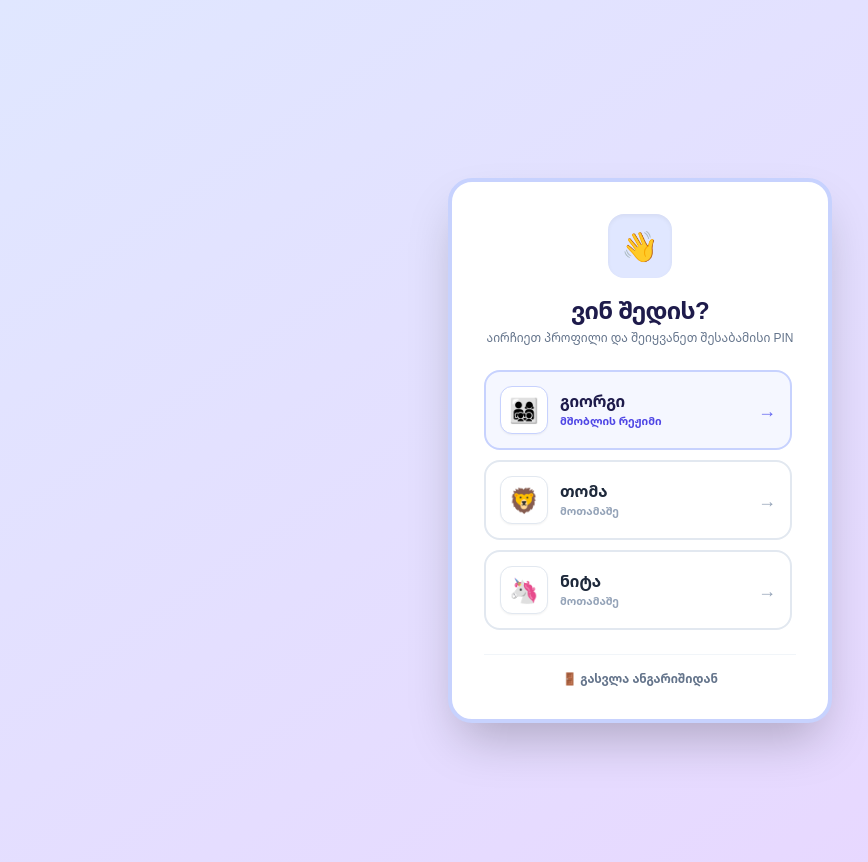
Test: PinGate Component — Two-Stage Identity-First Flow › Stage 1 -> Stage 2 -> Back ("← უკან"): transitions to Stage 2 with identity header and returns to Stage 1 clearing PIN
The image size is (868, 862).
Click child "თომა"
What coordinates should you click on to do the following:
click the text "თომა"
I would click on:
 (584, 491)
Its box is x1=560 y1=480 x2=608 y2=502.
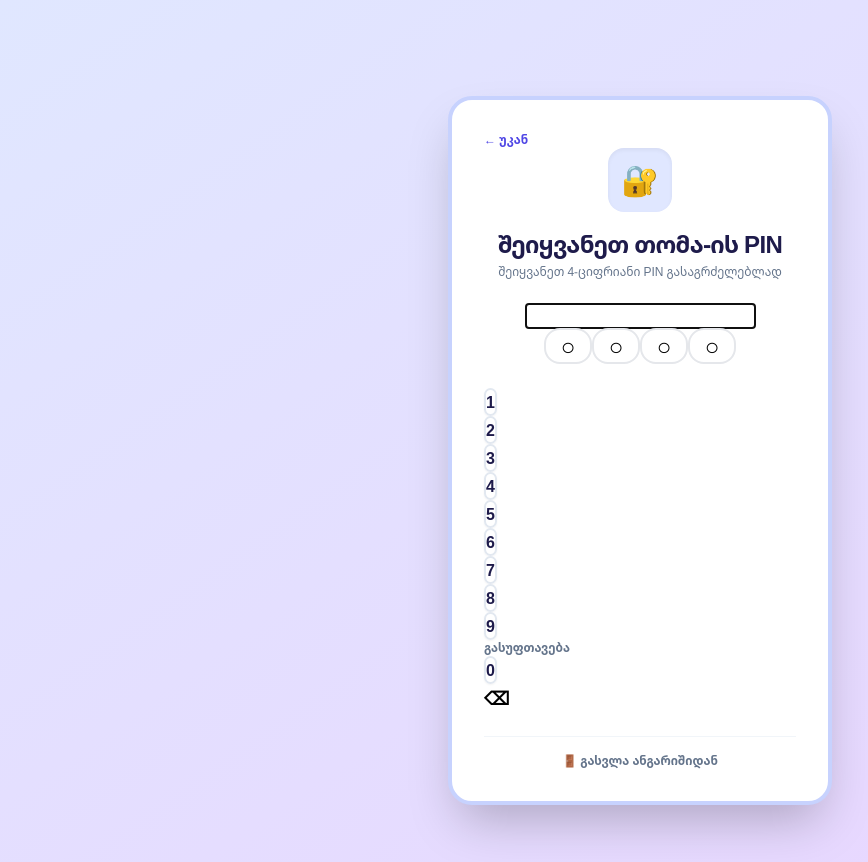
Expected: the heading "შეიყვანეთ თომა-ის PIN" is shown, x1=498 y1=228 x2=782 y2=260
Expected: the button "← უკან" is shown, x1=484 y1=132 x2=528 y2=148
What coordinates should you click on to do the following:
click the button "5"
I would click on:
 (490, 514)
Its box is x1=484 y1=500 x2=497 y2=528.
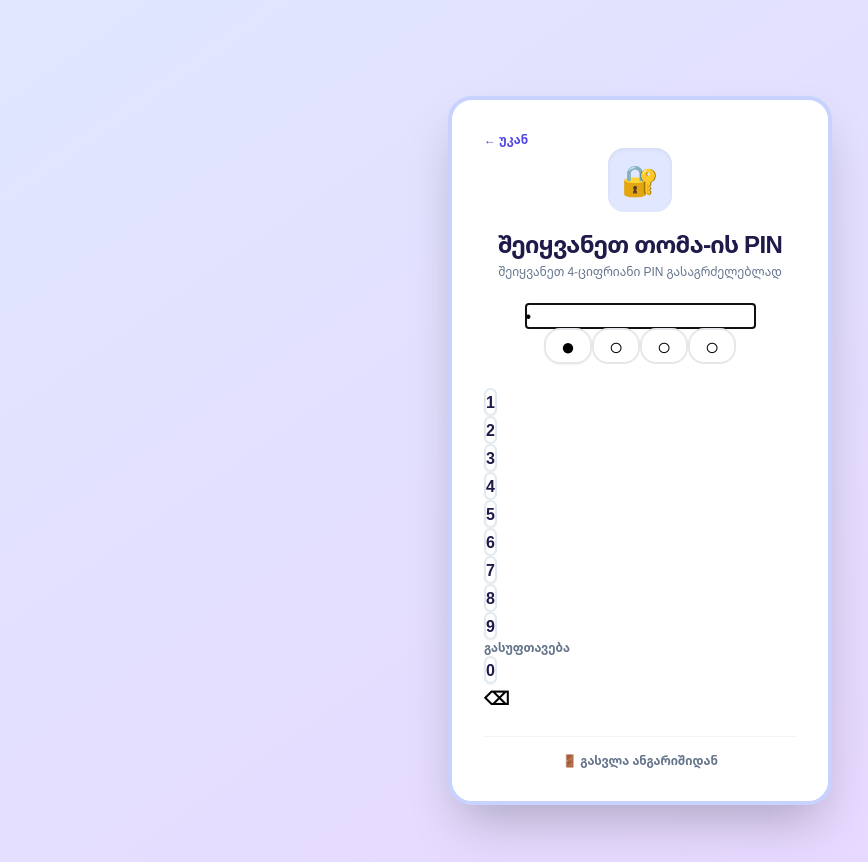
What coordinates should you click on to do the following:
click the button "6"
I would click on:
 (490, 542)
Its box is x1=484 y1=528 x2=497 y2=556.
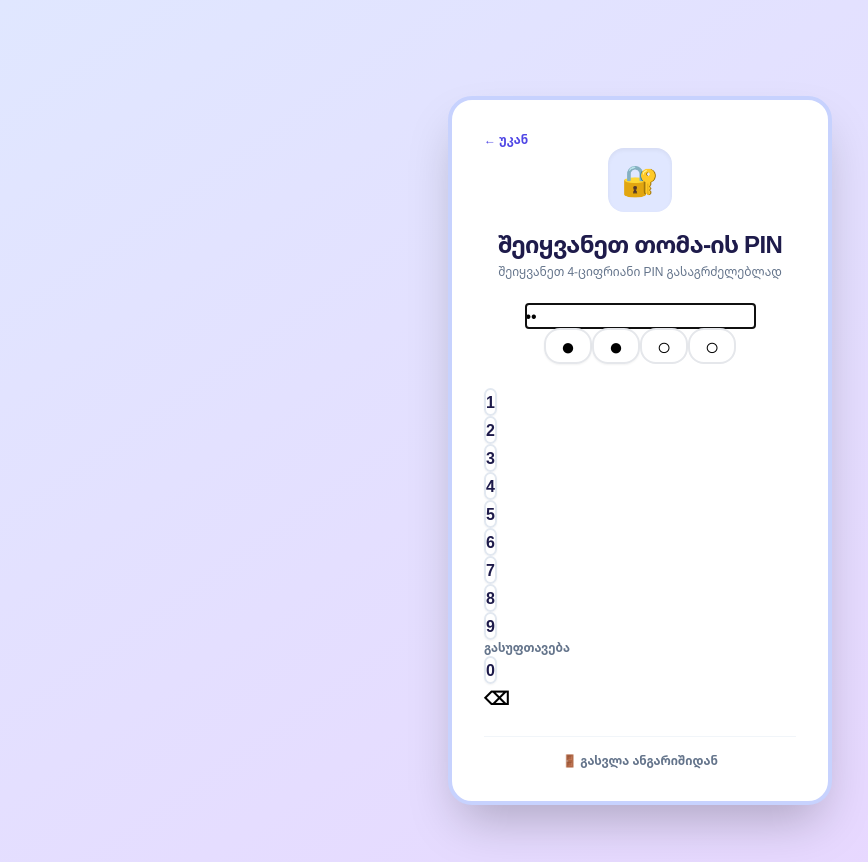
Click "← უკან"
What coordinates should you click on to do the following:
click the button "← უკან"
I would click on:
 (506, 140)
Its box is x1=484 y1=132 x2=528 y2=148.
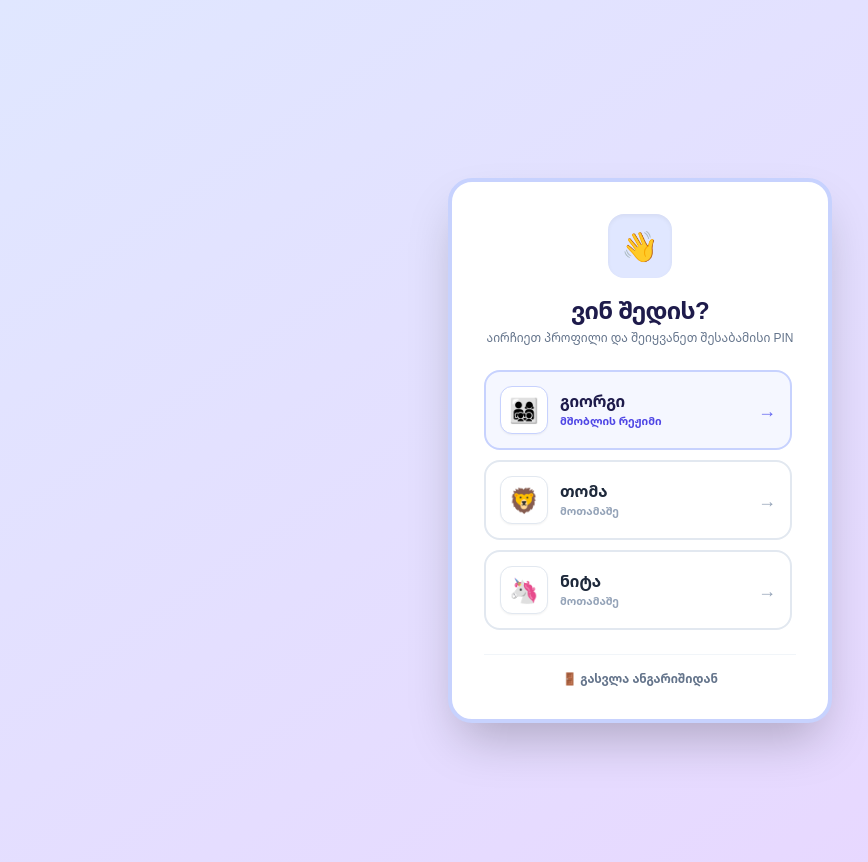
Expected: the heading "ვინ შედის?" is shown, x1=571 y1=294 x2=709 y2=326
What coordinates should you click on to do the following:
click the text "თომა"
I would click on:
 (584, 491)
Its box is x1=560 y1=480 x2=608 y2=502.
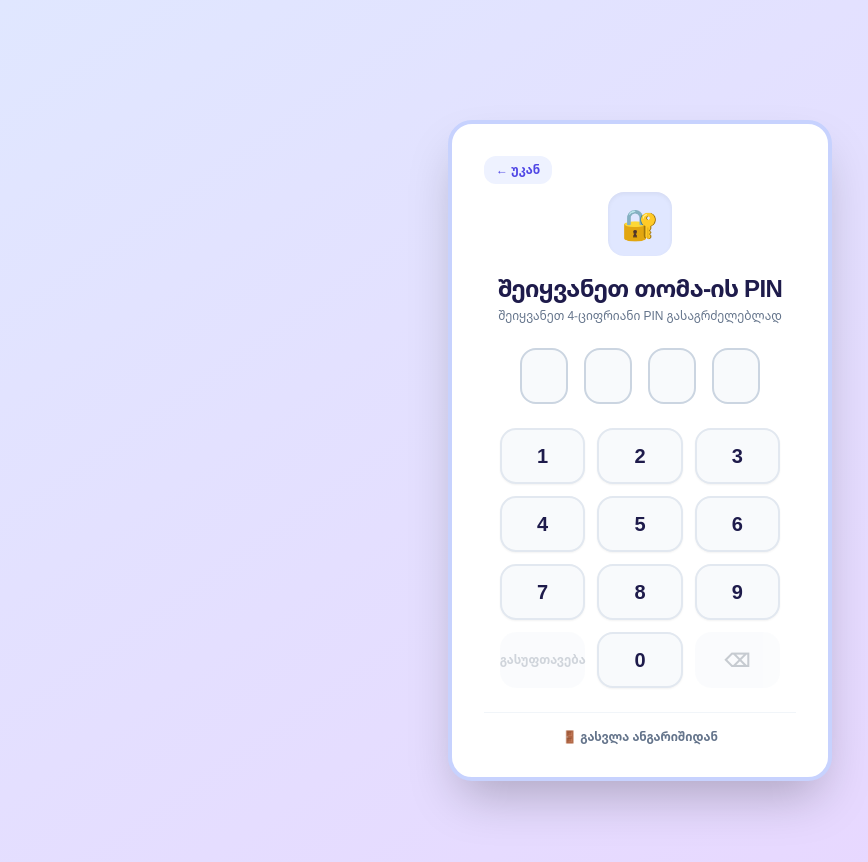
Expected: the button titled "გასუფთავება" is disabled, x1=500 y1=632 x2=585 y2=688
